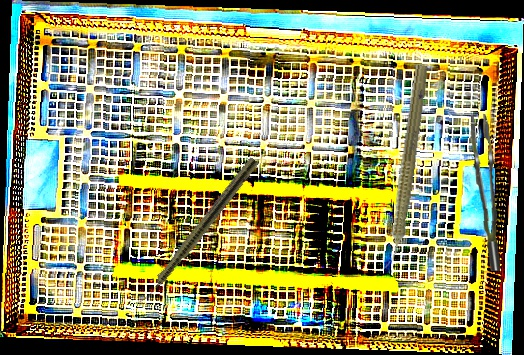Handpiece: (134, 155, 260, 311), (378, 63, 432, 274)
Tissue Forceps: (468, 113, 503, 272)
